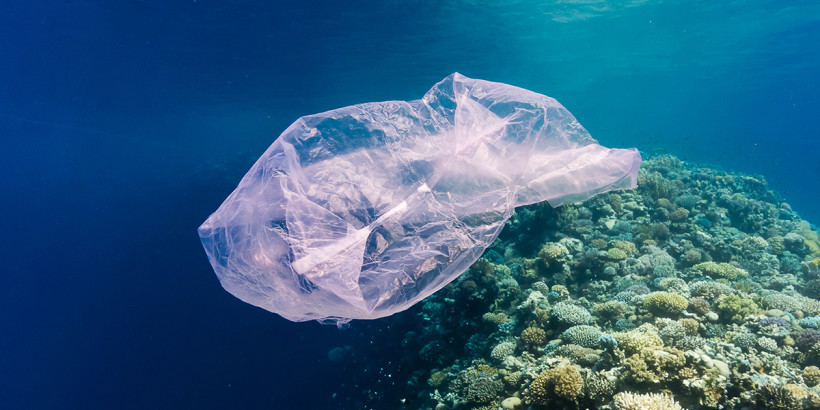litter: (180, 69, 652, 320)
